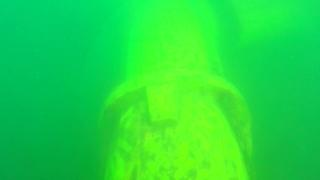pipe: (99, 1, 253, 179), (217, 1, 320, 49)
